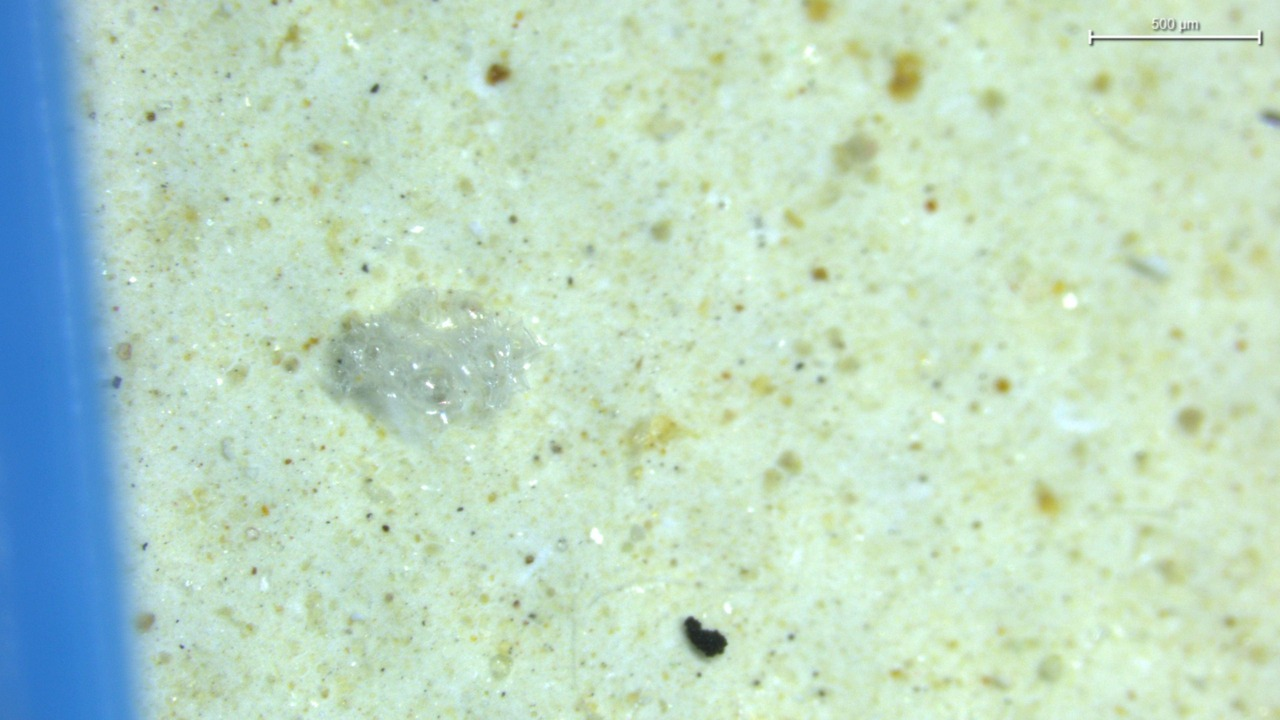microplastic_fragment: (329, 290, 544, 439)
